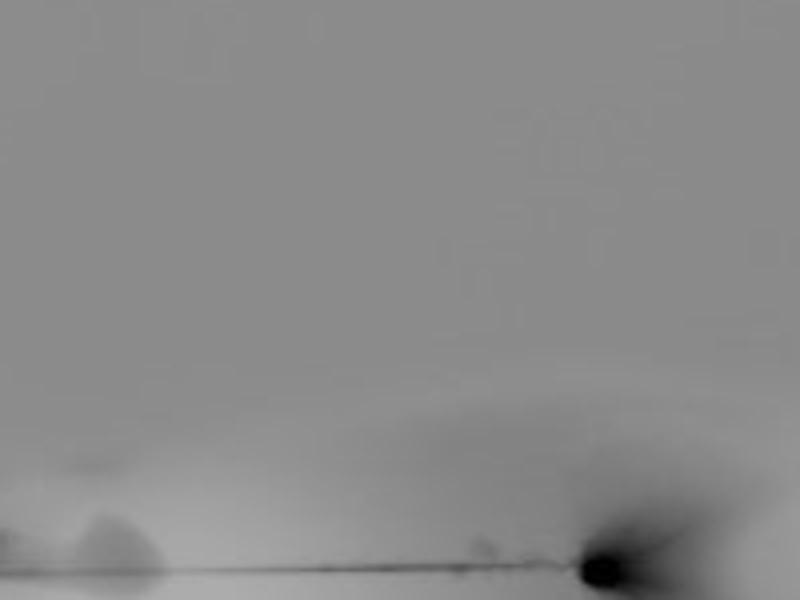defect: (74, 517, 166, 593), (576, 543, 648, 590), (468, 531, 505, 561)
